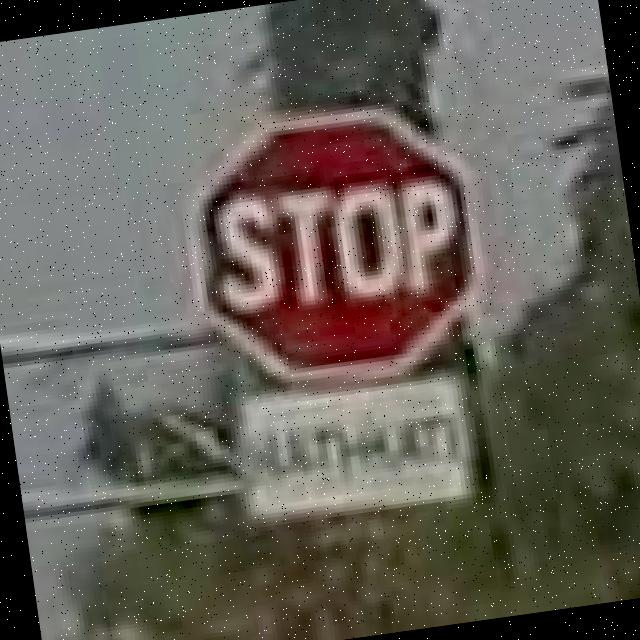Stop: (190, 94, 492, 392)
